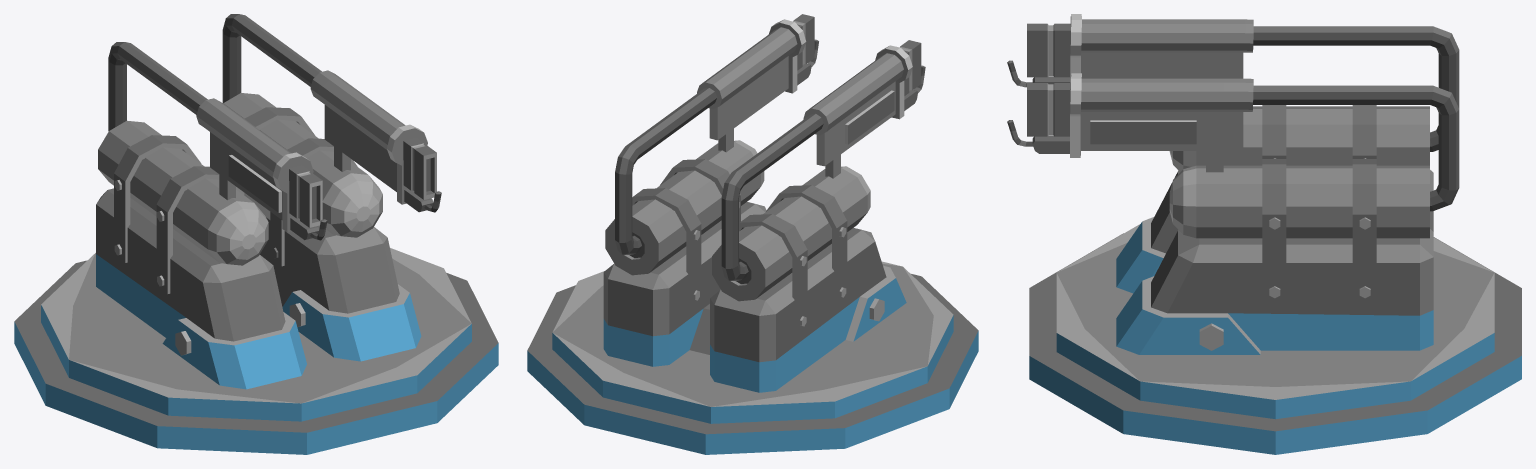
The model's file is tower_napalm_blue_1.fbx.
The picture shows the model from 3 angles, left to right: view 1: azimuth 30°, elevation 25°; view 2: azimuth 150°, elevation 25°; view 3: azimuth 270°, elevation 25°; orthographic projection. The views are drawn at different scales.
Parts seen in each view (by area): view 1: top_napalm_blue_1, tower_napalm_blue_1; view 2: top_napalm_blue_1, tower_napalm_blue_1; view 3: top_napalm_blue_1, tower_napalm_blue_1.
Part boxes in pixels (box(x1,y1,x2,y2)): top_napalm_blue_1: box(96, 14, 441, 389); tower_napalm_blue_1: box(14, 248, 498, 454); top_napalm_blue_1: box(603, 14, 925, 392); tower_napalm_blue_1: box(527, 261, 978, 454); top_napalm_blue_1: box(1007, 14, 1459, 354); tower_napalm_blue_1: box(1029, 224, 1521, 454).
Size of the model in its own units: 170 by 109 by 169.
